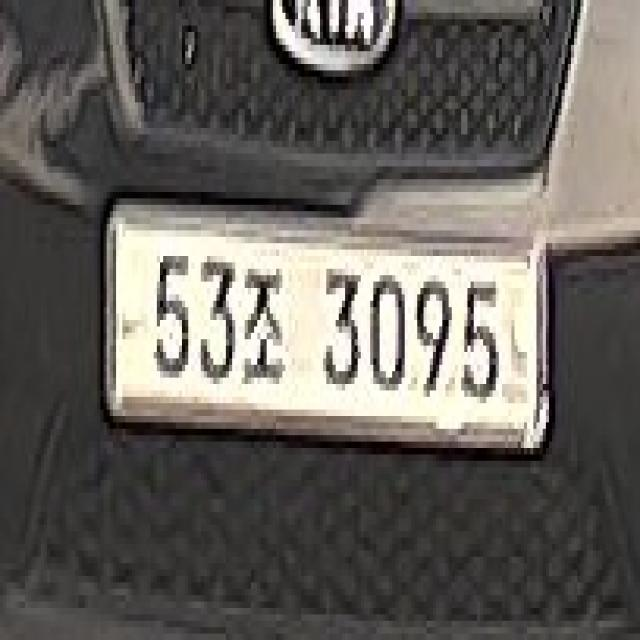0: (364, 262, 414, 403)
3: (194, 262, 242, 390), (314, 262, 358, 397)
5: (144, 244, 194, 390), (455, 268, 502, 409)
9: (417, 275, 458, 397)
jo: (235, 256, 295, 403)
license_plate: (100, 192, 552, 461)
